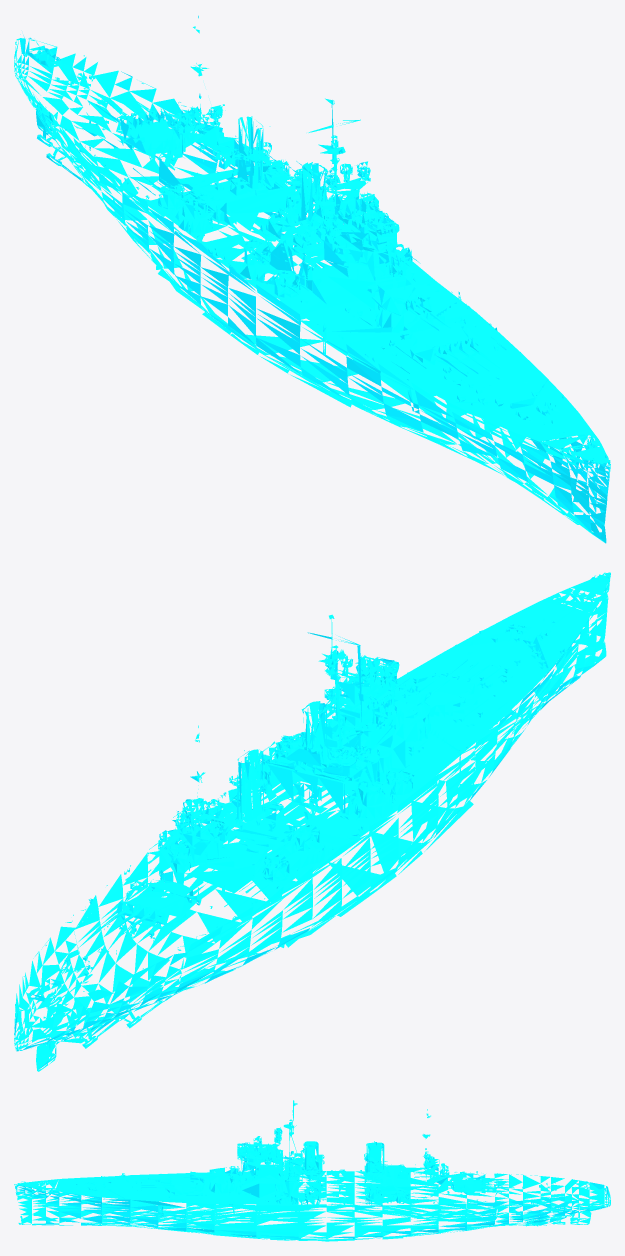
File: Prince_of_Wales.glb
The picture shows the model from 3 angles, top to bottom: view 1: azimuth 30°, elevation 25°; view 2: azimuth 150°, elevation 25°; view 3: azimuth 270°, elevation 25°; orthographic projection. The views are drawn at different scales.
Size of the model in its own units: 2.17 by 3.5 by 15.13.
